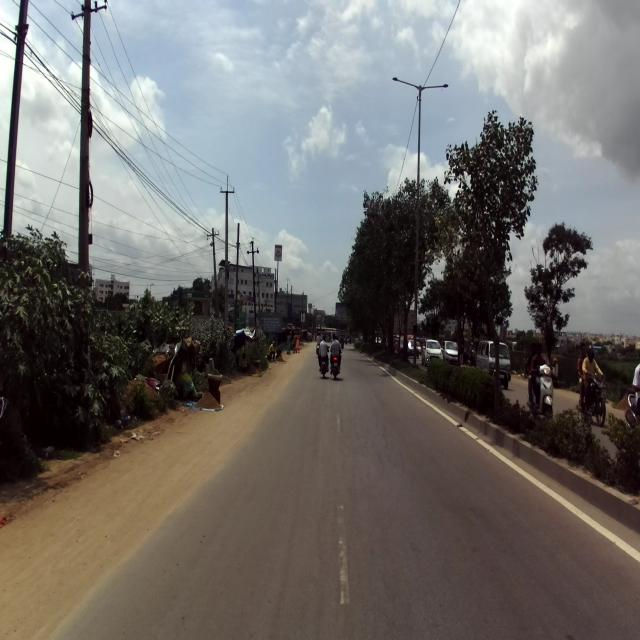scooter: (526, 362, 554, 420)
